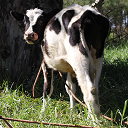vaca: (8, 1, 112, 122)
